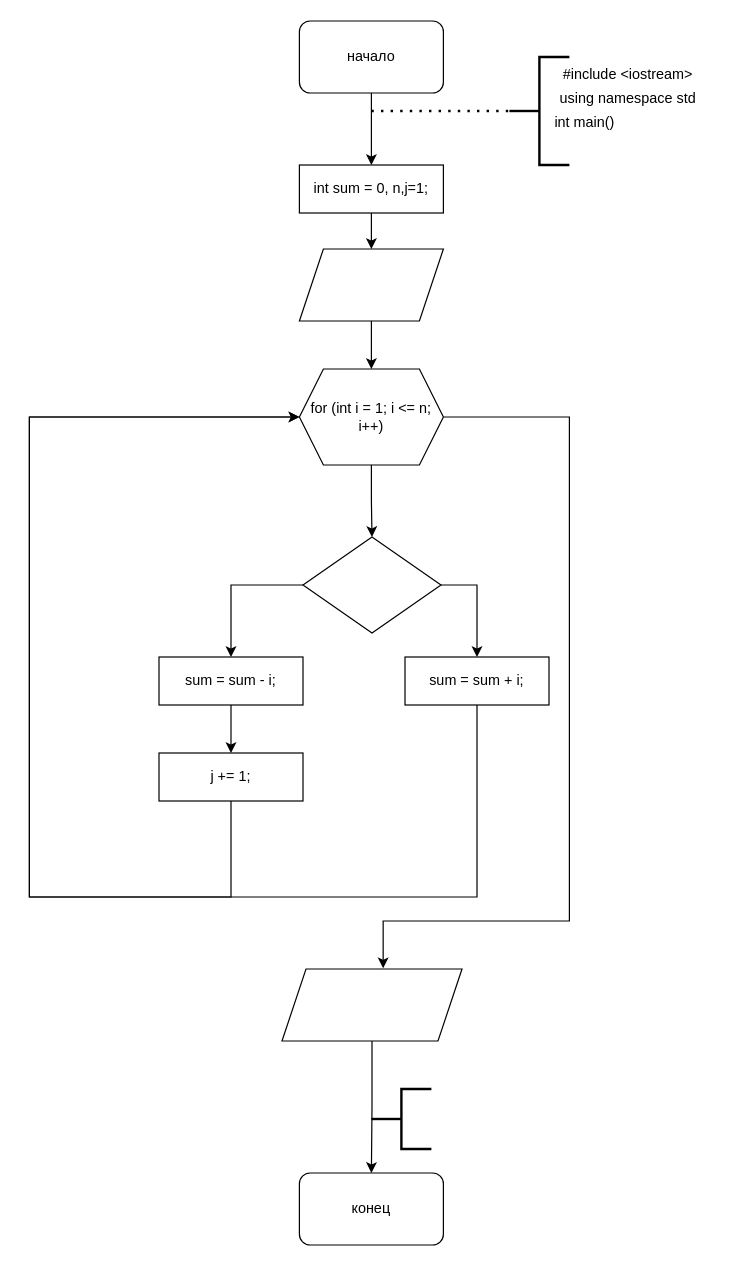
The diagram is 734 pixels wide and 1266 high, and some of its shapes have lost their labels. Here are the shapes that lost their labels. From the top down, the centre of each, then its label:
At (x=370, y=284): "cin >> n;".
At (x=371, y=584): "if (i == pow(3, j))".
At (x=371, y=1004): "cout << sum << endl;".
At (x=401, y=1118): "return 0".
